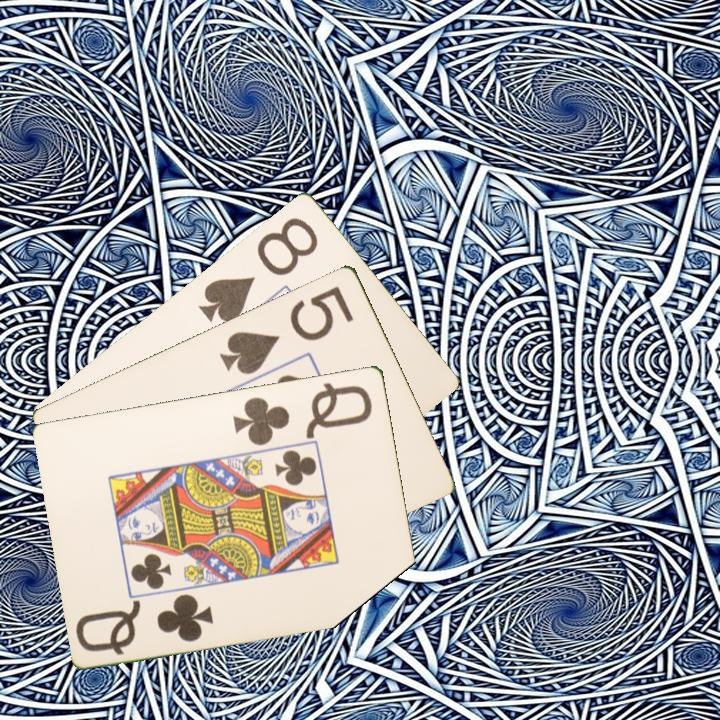5s: (216, 282, 357, 377)
8s: (195, 213, 322, 325)
Qc: (230, 378, 376, 448), (72, 589, 217, 658)
